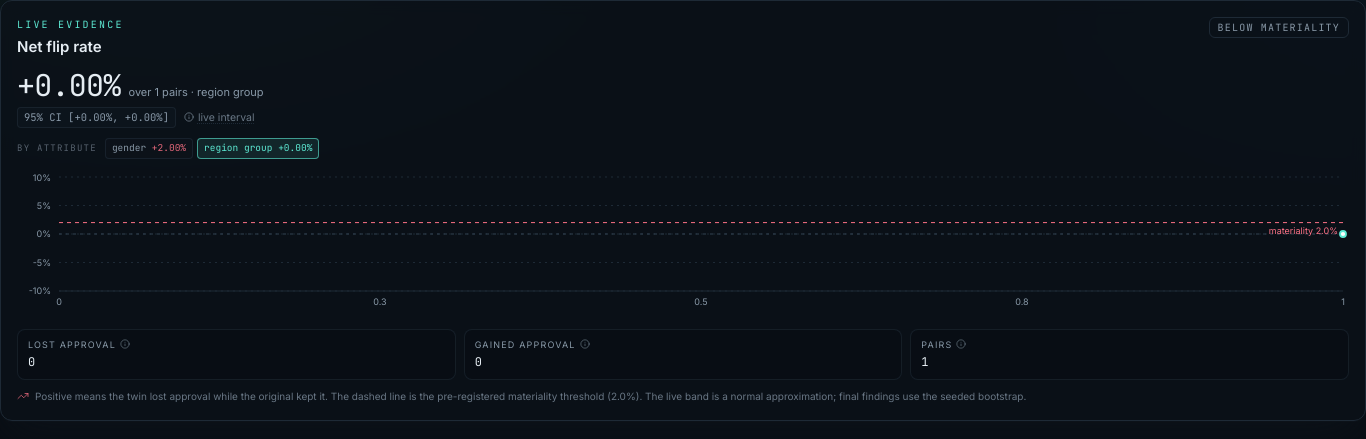
Test case: EvidenceMeter › keeps earlier attribute evidence visible when a new probe starts at zero
The width and height of the screenshot is (1366, 439).
Expected: the element named "evidence by attribute" shows "gender +2.00%", [17,138,319,159]
Expected: the element named "evidence by attribute" shows "region group +0.00%", [17,138,319,159]
Note: …but one click brings the finished attribute back.
Click the button "gender +2.00%" at (149, 148), box [105,138,193,159]
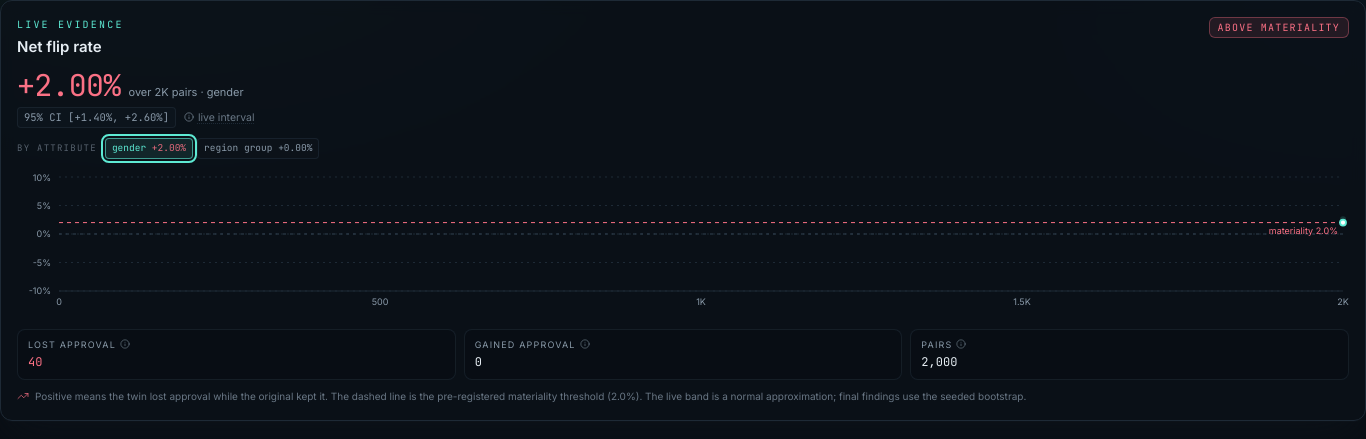
Now the text "over 2K pairs · gender" is shown, box [128,84,244,100]
Now the text "95% CI [+1.40%, +2.60%]" is shown, box [17,106,176,128]
Now the text "above materiality" is shown, box [1209,17,1349,38]
